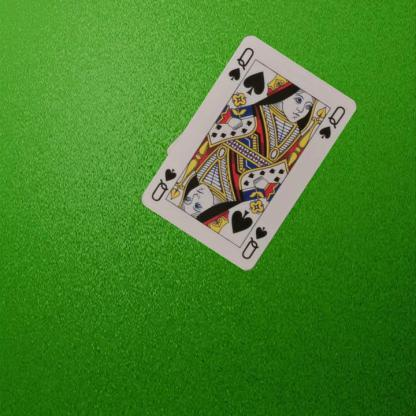Qs: (225, 44, 256, 82), (239, 223, 269, 261)
